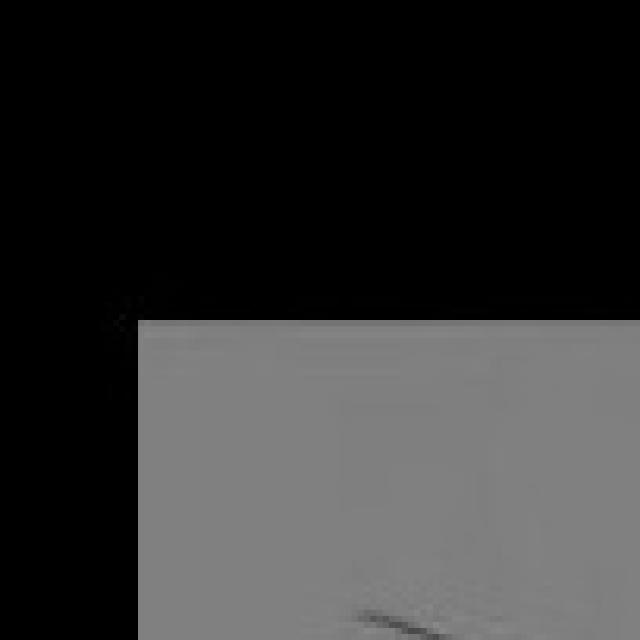Defect4: (343, 575, 446, 638)
